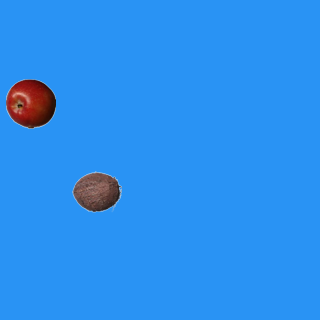Apple Braeburn: (5, 78, 55, 128)
Cocos: (71, 166, 121, 216)
